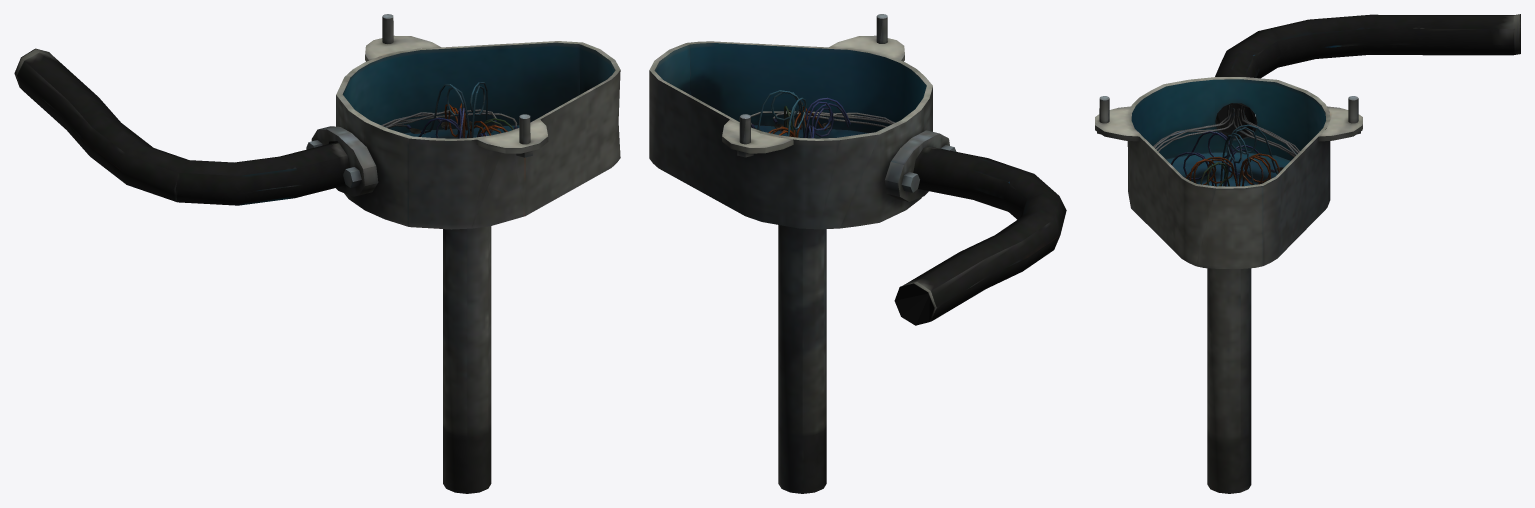
The model's file is mufta.fbx.
3 renders of one model, left to right at view 1: azimuth 30°, elevation 25°; view 2: azimuth 150°, elevation 25°; view 3: azimuth 270°, elevation 25°, orthographic. The views are drawn at different scales.
Visible parts, largest first — view 1: mufta; view 2: mufta; view 3: mufta.
Part boxes in pixels (box(x1,y1,x2,y2)): mufta: box(14, 14, 620, 493); mufta: box(649, 14, 1066, 493); mufta: box(1095, 14, 1520, 493).
Size of the model in its own units: 0.4731 by 0.4274 by 0.432.
